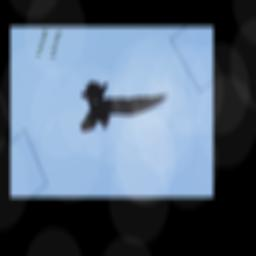Crow: (70, 81, 171, 141)
